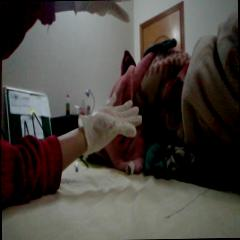gloved: (78, 92, 142, 155), (73, 0, 131, 23)
